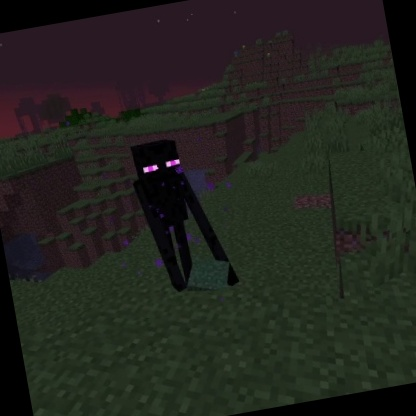enderman: (125, 129, 244, 303)
